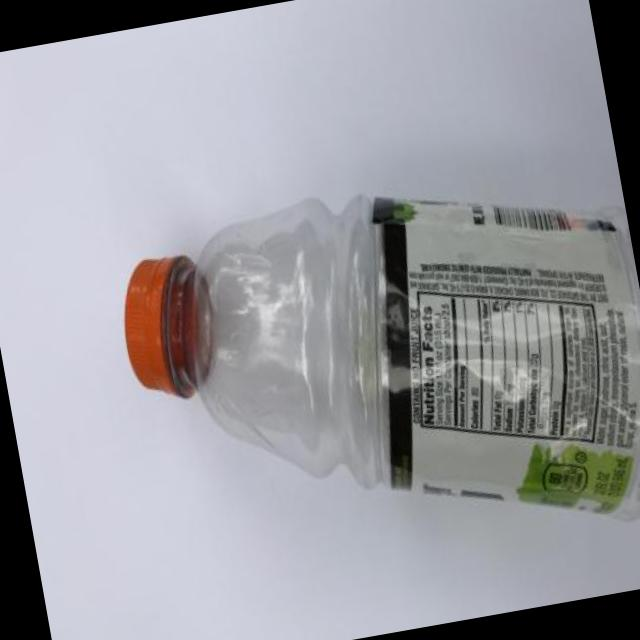Recycle: (101, 137, 640, 600)
